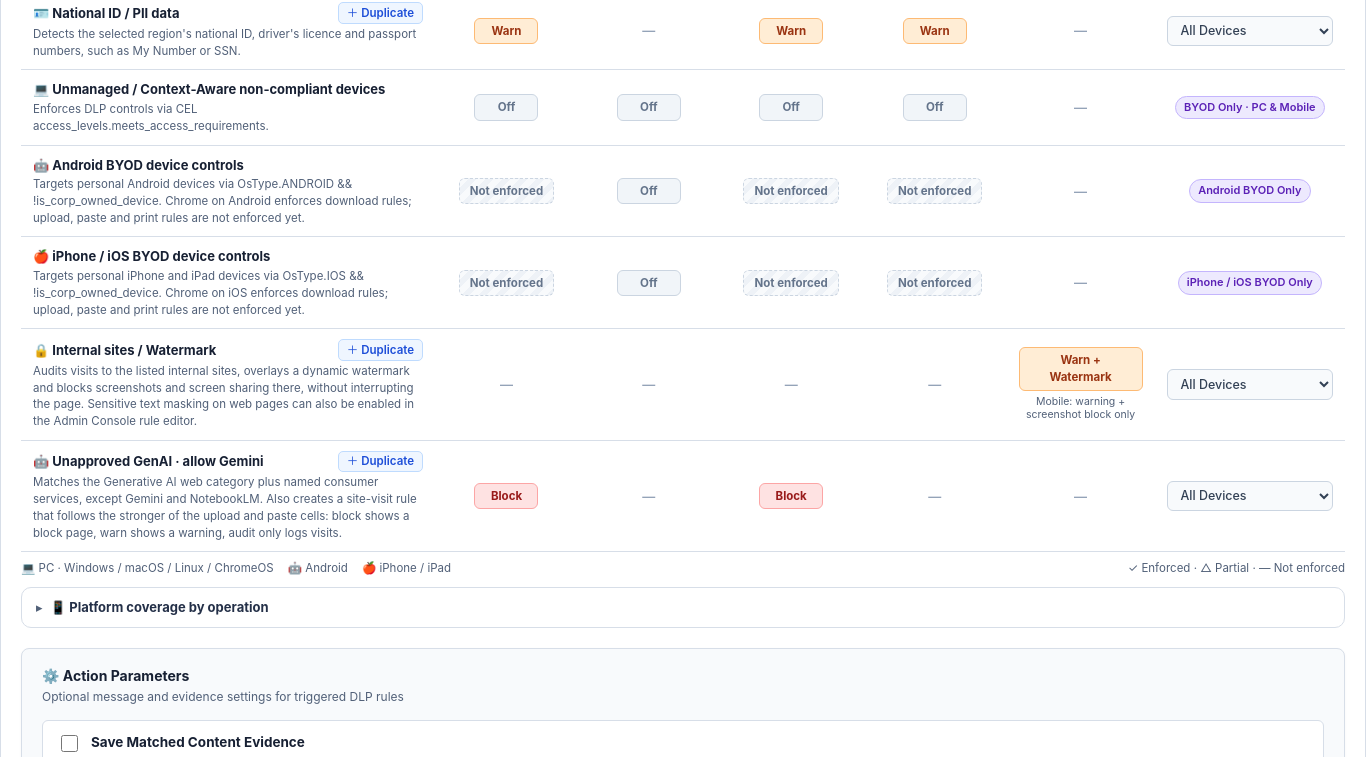
Scenario: DlpMatrixTable platform gating › notes that watermark rows reaching mobile apply the warning and screenshot block only there
The image size is (1366, 757).
(page scrolled)
Expected: the text "Mobile: warning + screenshot block only" is shown, [1018,394,1143,422]
Select "PC BYOD Only · Win / Mac" in the dropdown named "Internal sites / Watermark - Supported Scope" at (1250, 384), box [1167,369,1333,400]
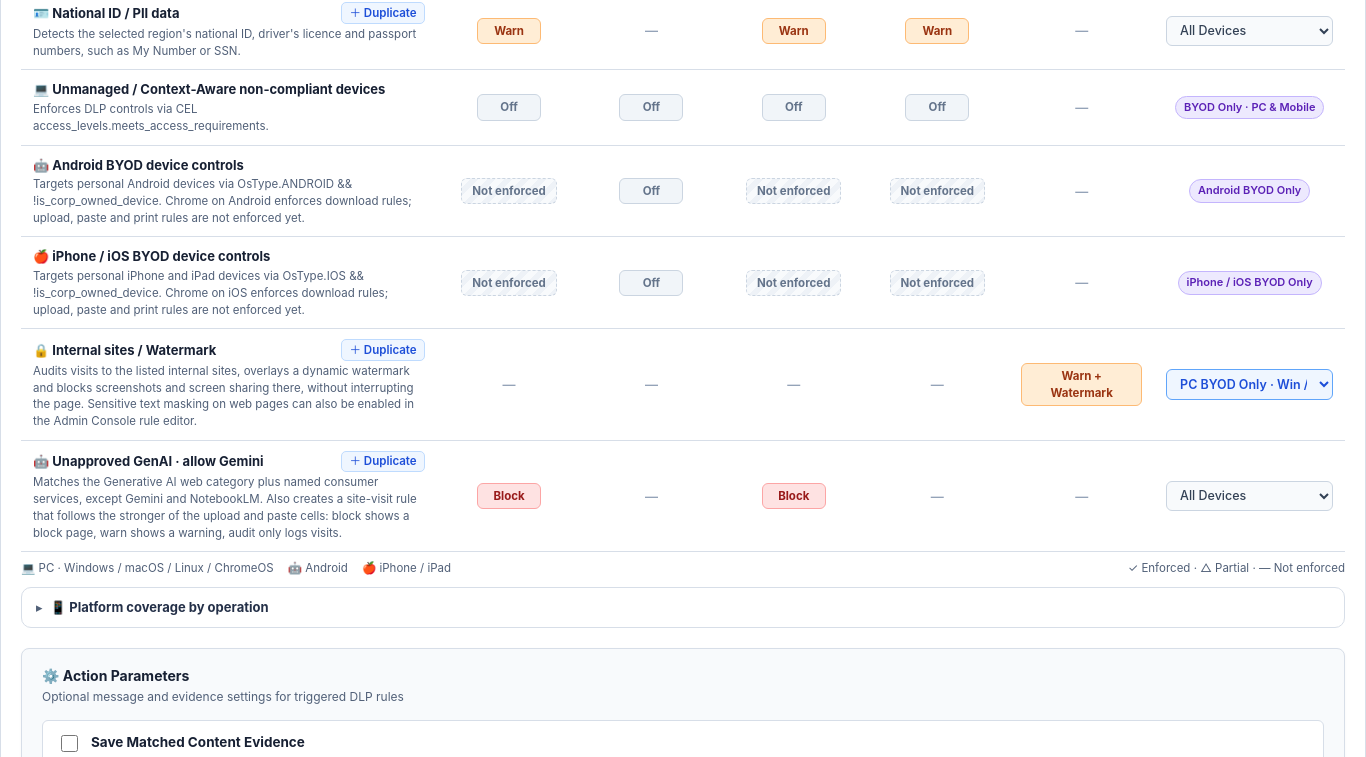
Expected: the text "Mobile: warning + screenshot block only" is gone
Select "Mobile BYOD Only · Android + iOS" in the dropdown named "Internal sites / Watermark - Supported Scope" at (1250, 384), box [1166,369,1333,400]
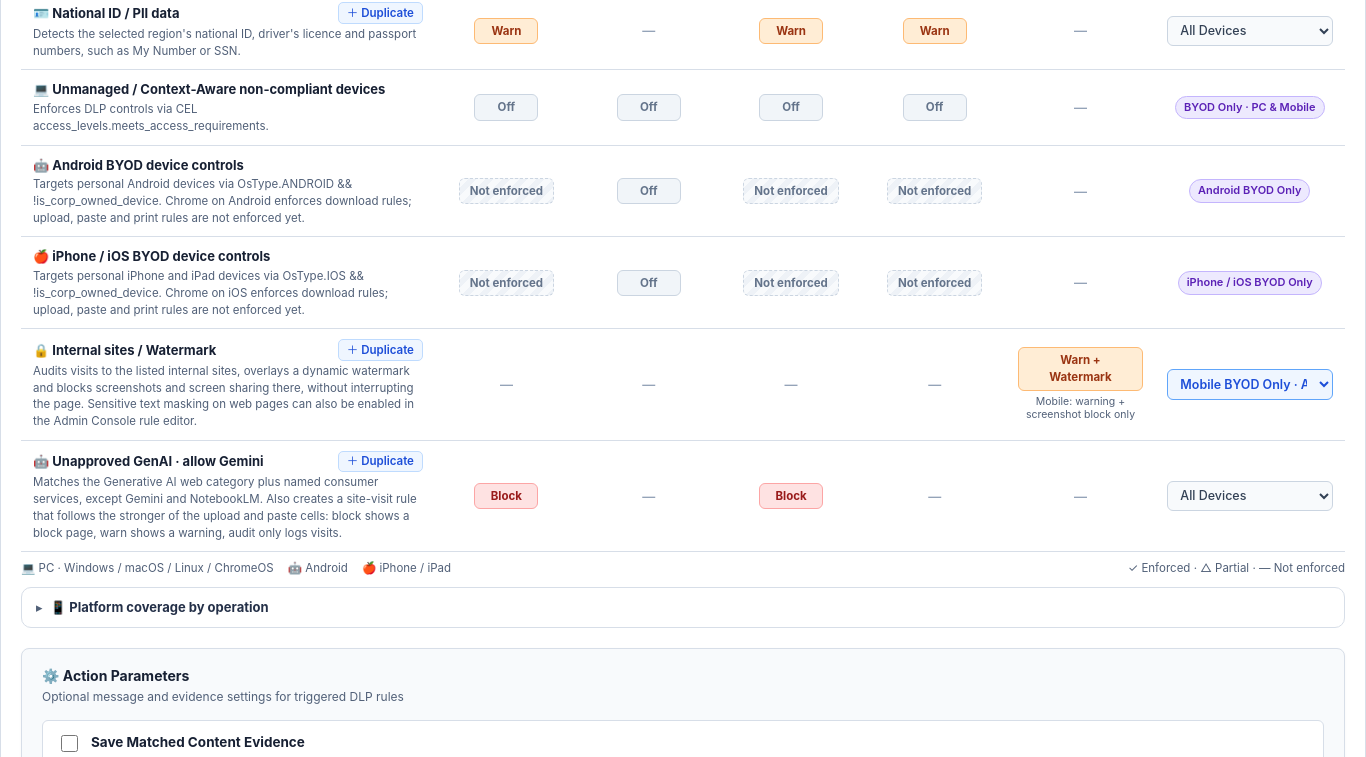
Expected: the text "Mobile: warning + screenshot block only" is shown, [1018,394,1142,422]
